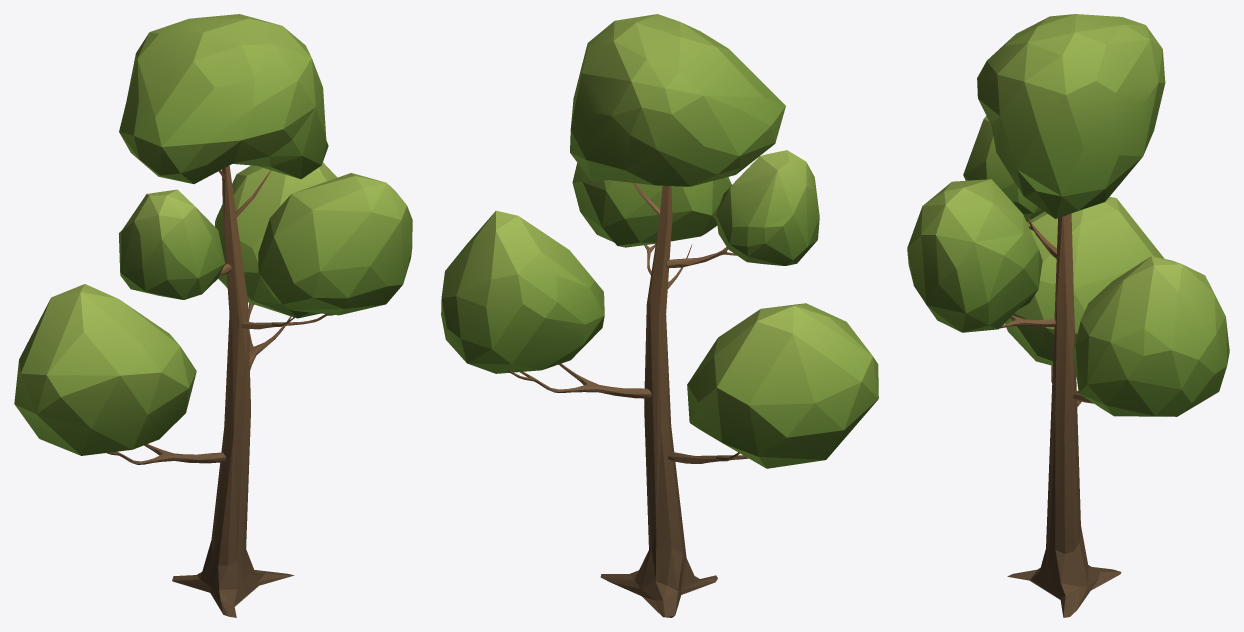
File: Spring_Tree_11.glb
3 views of the same model, side by side, from view 1: azimuth 30°, elevation 25°; view 2: azimuth 150°, elevation 25°; view 3: azimuth 270°, elevation 25° (orthographic).
Parts seen in each view (by area): view 1: Spring_Tree_11_LOD0; view 2: Spring_Tree_11_LOD0; view 3: Spring_Tree_11_LOD0.
Boxes of the visible parts, x1=… form: Spring_Tree_11_LOD0: x1=14, y1=14, x2=412, y2=617; Spring_Tree_11_LOD0: x1=441, y1=14, x2=878, y2=617; Spring_Tree_11_LOD0: x1=907, y1=14, x2=1229, y2=617.
Size of what is drawn, in the model's own units: 7.57 by 10.92 by 5.63.
Materials: 1 (1 with a texture image).
